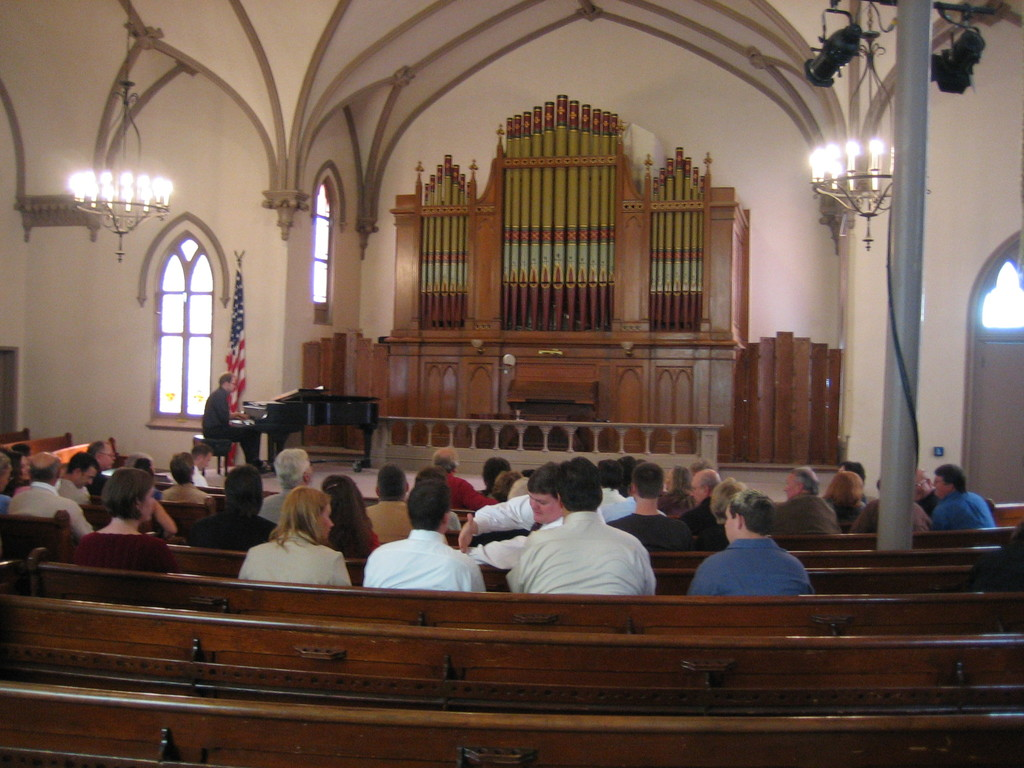Person: (0, 446, 1024, 599), (200, 368, 269, 470)
